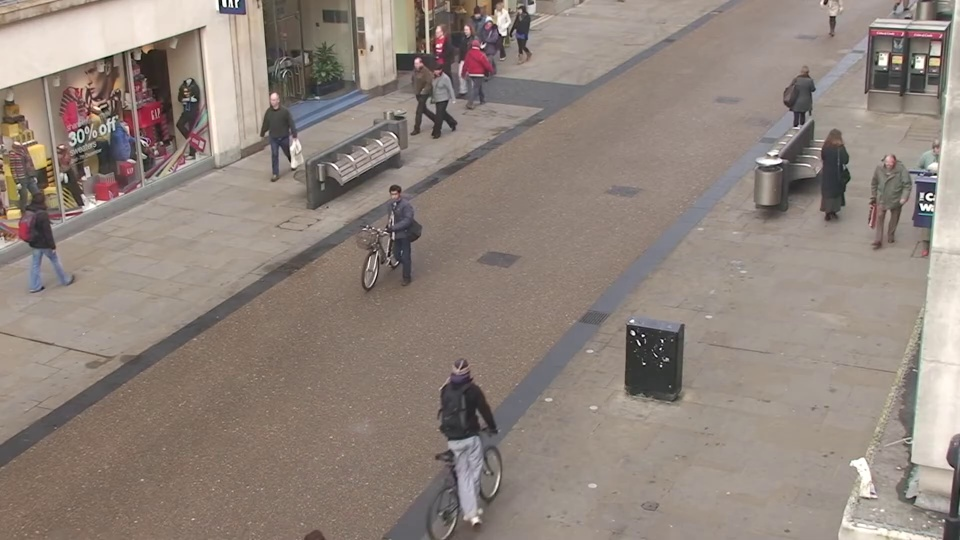pedestrian: (454, 337, 505, 490), (31, 184, 85, 296), (906, 137, 955, 243), (858, 152, 903, 259), (372, 183, 412, 298), (815, 126, 854, 225), (256, 91, 289, 178), (787, 61, 819, 144), (399, 55, 428, 133), (419, 61, 447, 141), (465, 33, 491, 106), (420, 27, 446, 98), (449, 26, 474, 96), (477, 14, 501, 81), (465, 7, 488, 72), (511, 3, 534, 67), (487, 2, 510, 66)
